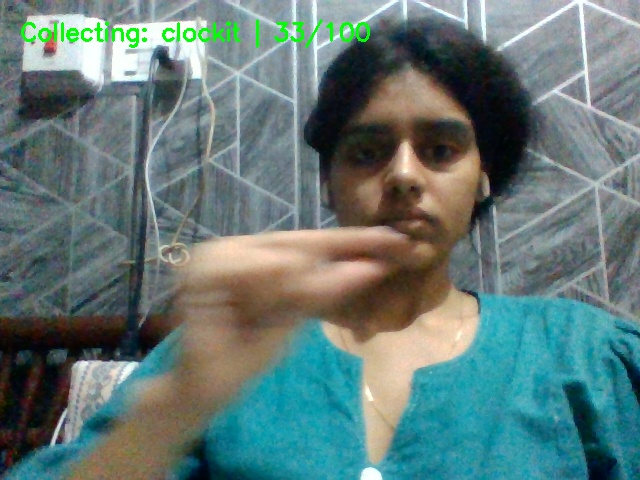clockit: (168, 225, 427, 395)
